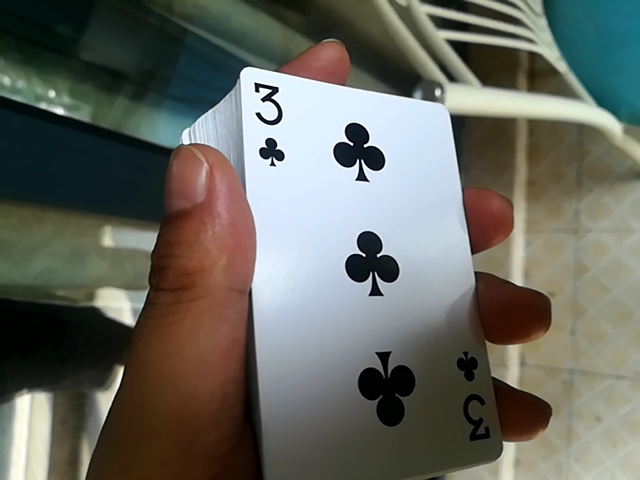mh 3: (208, 59, 472, 472)
